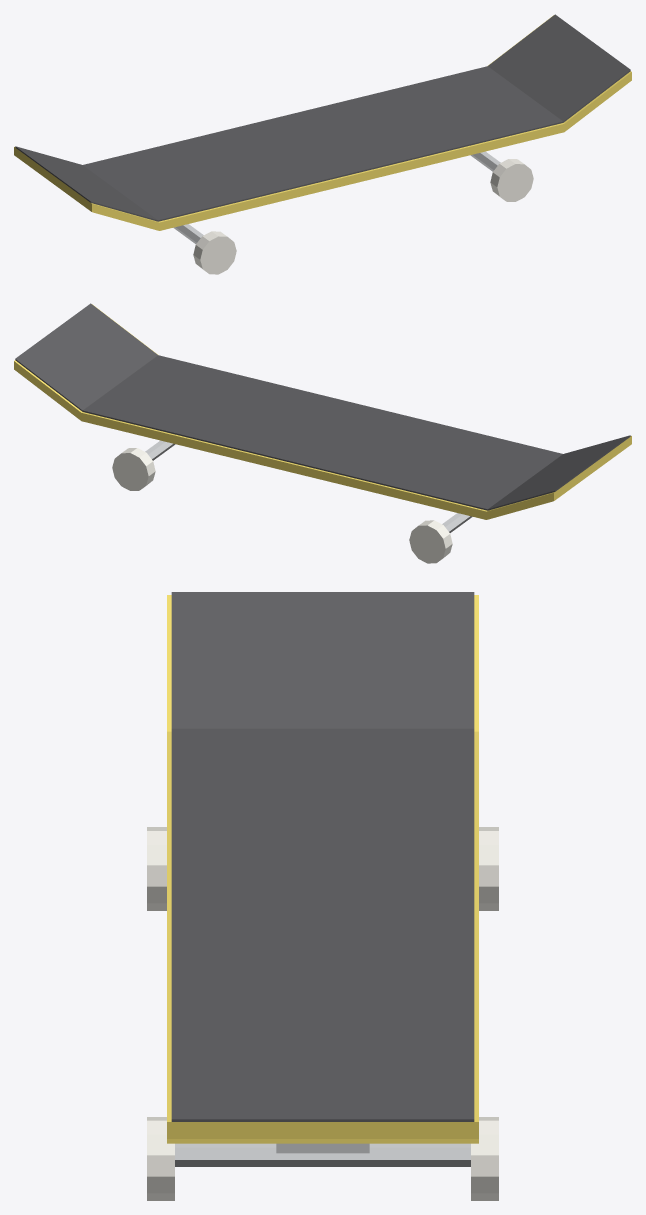
The model's file is skate_y.glb.
3 renders of one model, top to bottom at view 1: azimuth 30°, elevation 25°; view 2: azimuth 150°, elevation 25°; view 3: azimuth 270°, elevation 25°, orthographic. The views are drawn at different scales.
Visible parts, largest first — view 1: skate_y_grip, skate_y_paint_y, skate_y_wheel_w, skate_y_metal; view 2: skate_y_grip, skate_y_paint_y, skate_y_wheel_w, skate_y_metal; view 3: skate_y_grip, skate_y_paint_y, skate_y_wheel_w, skate_y_metal.
Part boxes in pixels (x1,y1,x2,y2): skate_y_grip: (15,14,630,221); skate_y_paint_y: (14,15,631,230); skate_y_wheel_w: (193,159,533,274); skate_y_metal: (173,151,500,243); skate_y_grip: (15,303,630,510); skate_y_paint_y: (14,304,631,519); skate_y_wheel_w: (112,448,452,563); skate_y_metal: (145,440,472,532); skate_y_grip: (171,592,474,1121); skate_y_paint_y: (167,595,478,1143); skate_y_wheel_w: (147,827,498,1200); skate_y_metal: (175,1143,470,1166).
Bounding box in the file's own units: 0.8 × 0.139 × 0.226.
